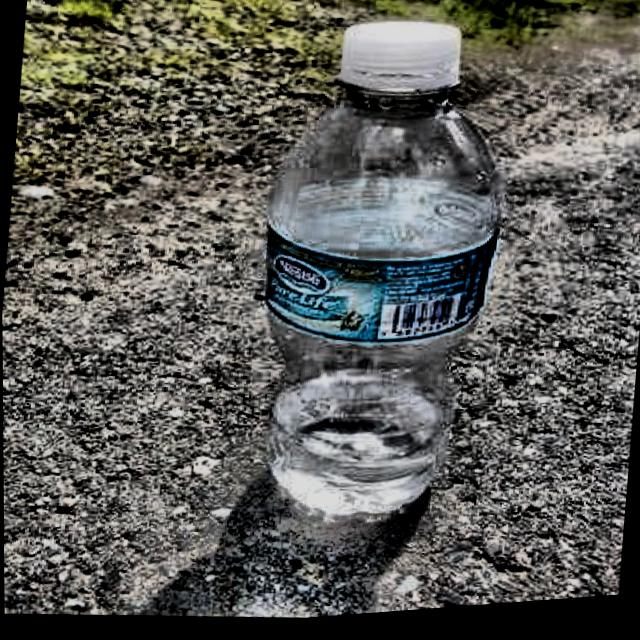Bottles: (222, 0, 536, 554)
